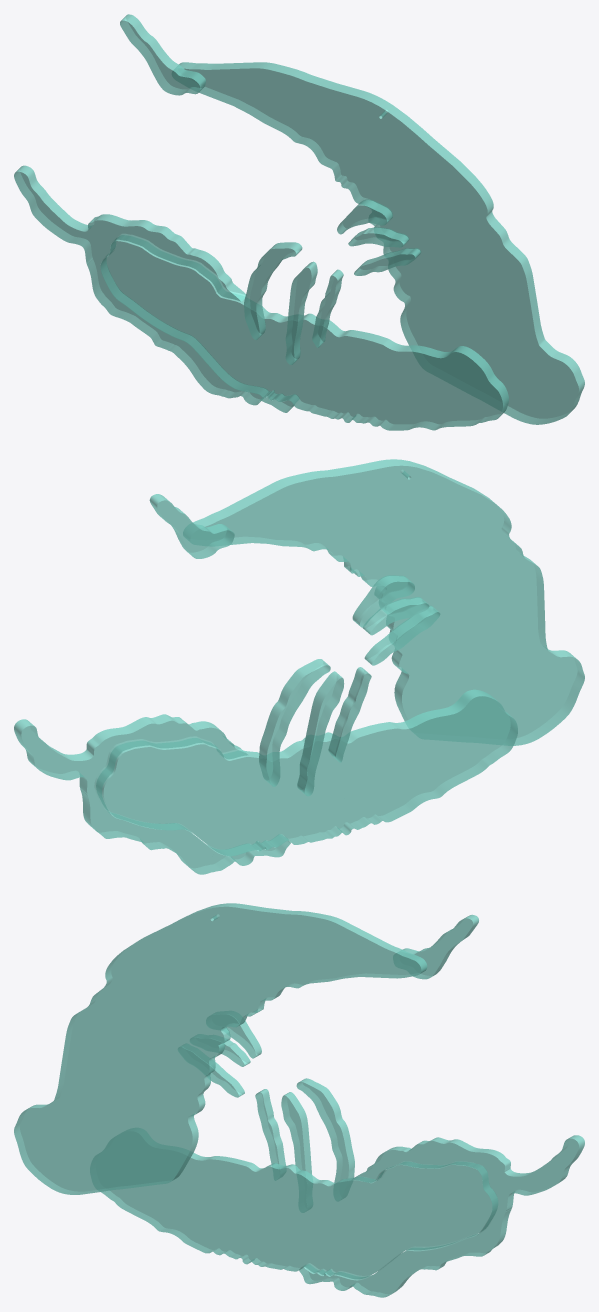
3 views of the same model, one above another, from view 1: azimuth 90°, elevation 25°; view 2: azimuth 150°, elevation 25°; view 3: azimuth 270°, elevation 25° (orthographic). The views are drawn at different scales.
Parts seen in each view (by area): view 1: 12-GREENBLUE; view 2: 12-GREENBLUE; view 3: 12-GREENBLUE.
Part boxes in pixels (x1,y1,x2,y2): 12-GREENBLUE: [14, 14, 584, 430]; 12-GREENBLUE: [14, 459, 584, 874]; 12-GREENBLUE: [14, 903, 584, 1297].
Bounding box in the file's own units: 10.95 × 16.28 × 22.17.
